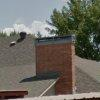Chimney: (27, 30, 80, 87)
